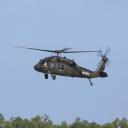helicopter: (15, 47, 114, 87)
